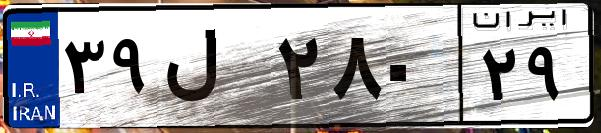0: (385, 28, 445, 110)
2: (270, 28, 330, 110), (475, 38, 525, 113)
3: (57, 26, 110, 100)
8: (330, 28, 385, 110)
9: (525, 38, 570, 115), (110, 28, 158, 98)
ل: (158, 20, 270, 120)
